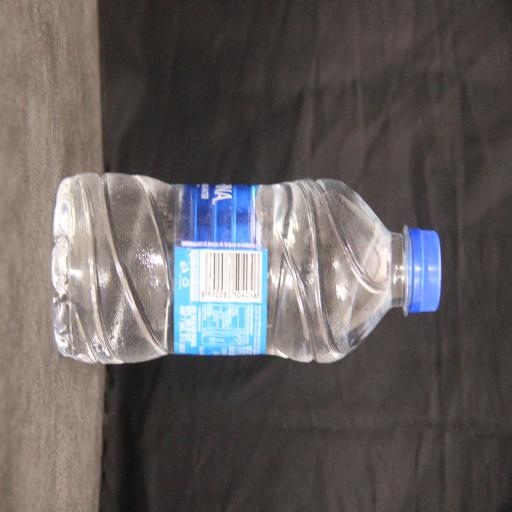Aquafina: (119, 106, 242, 512)
